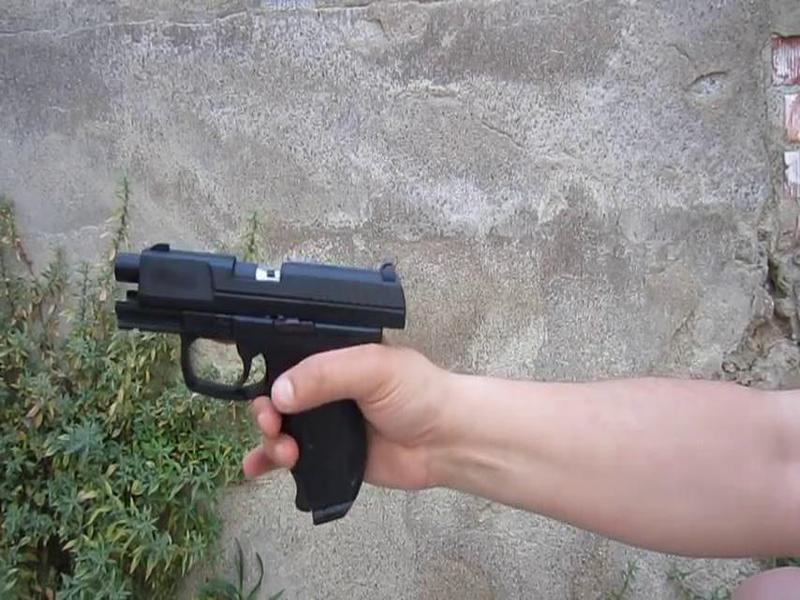Pistola: (86, 224, 410, 539)
